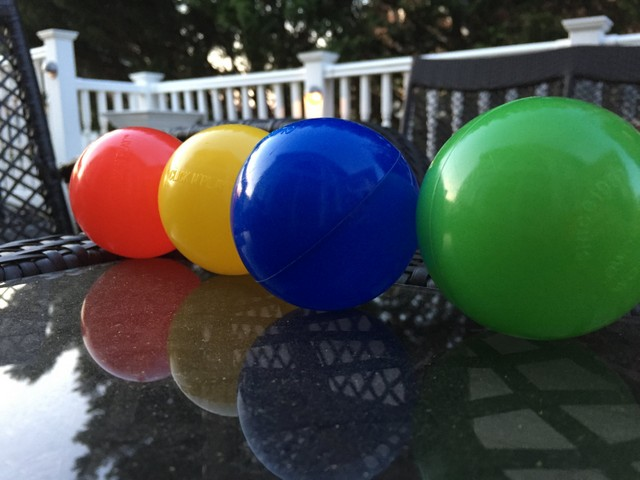ball: (157, 122, 274, 275)
